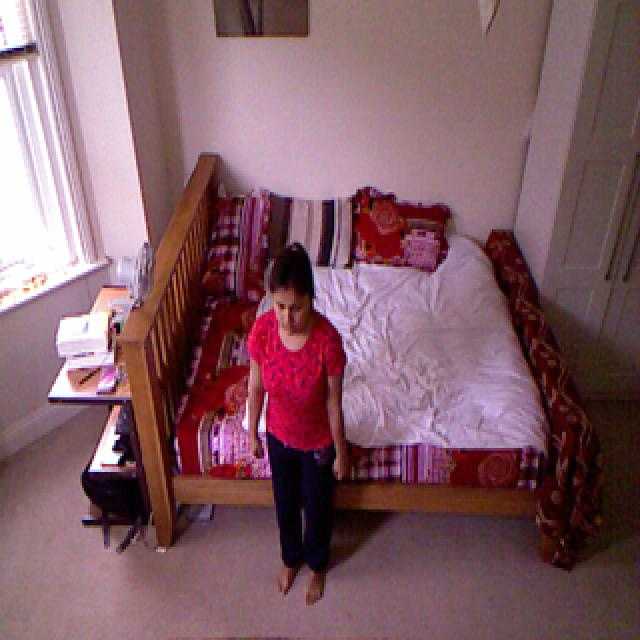standing: (246, 241, 349, 589)
